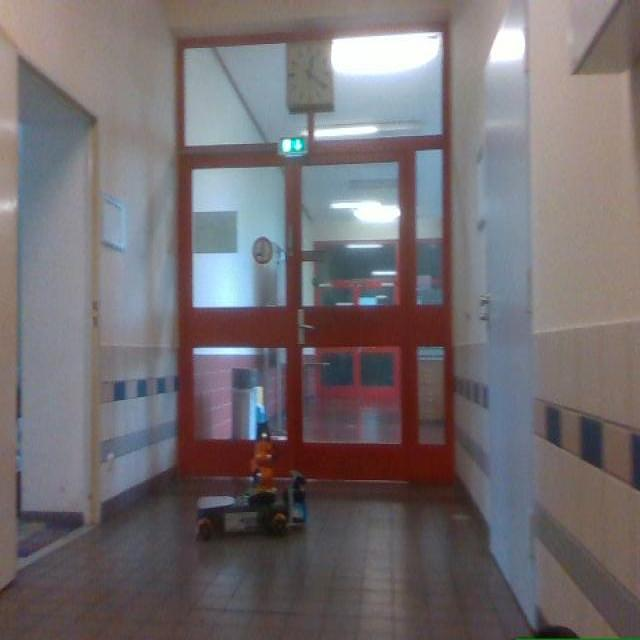objects: (534, 626, 578, 638)
